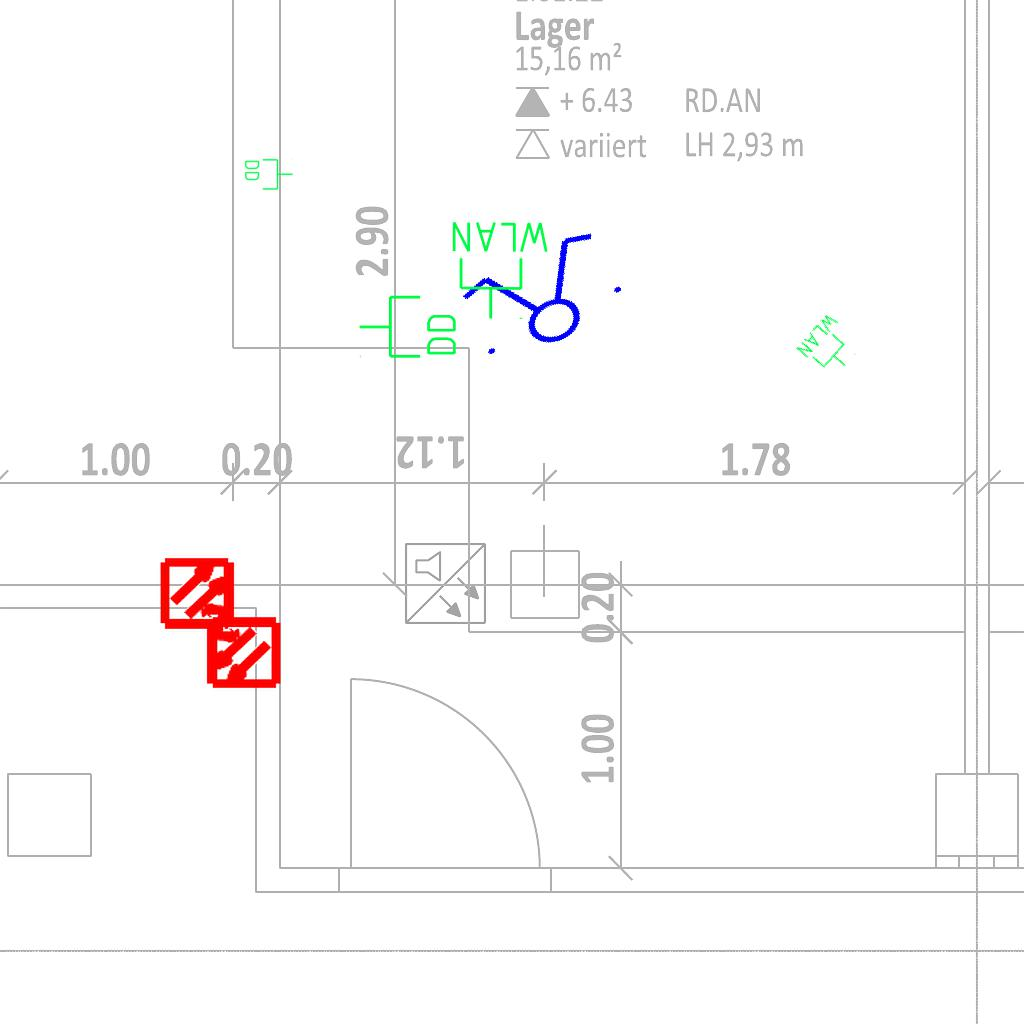Datenanschluss_zweifach: (357, 293, 460, 362), (243, 157, 294, 191)
OT_Multisensormelder_(Kombination_RMO_WMD): (143, 537, 256, 650), (185, 596, 298, 709)
Serienschalter: (445, 218, 639, 378)
WLAN: (448, 218, 553, 322), (793, 309, 867, 383)
